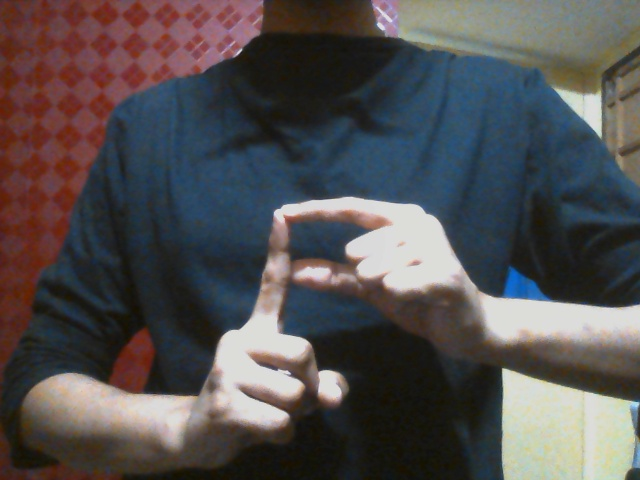P: (199, 195, 463, 450)
